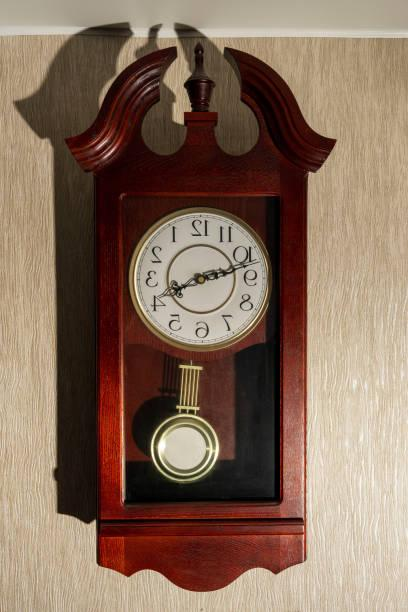clock: (131, 211, 269, 350)
